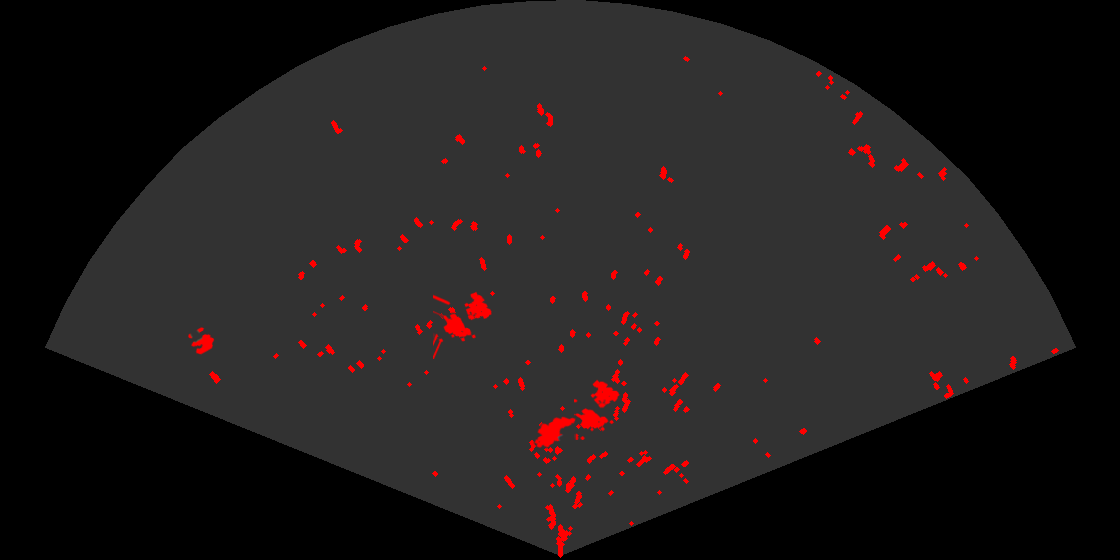AUV: (533, 415, 577, 450)
ball: (186, 326, 216, 356)
cage: (433, 290, 493, 359), (574, 378, 621, 440)
